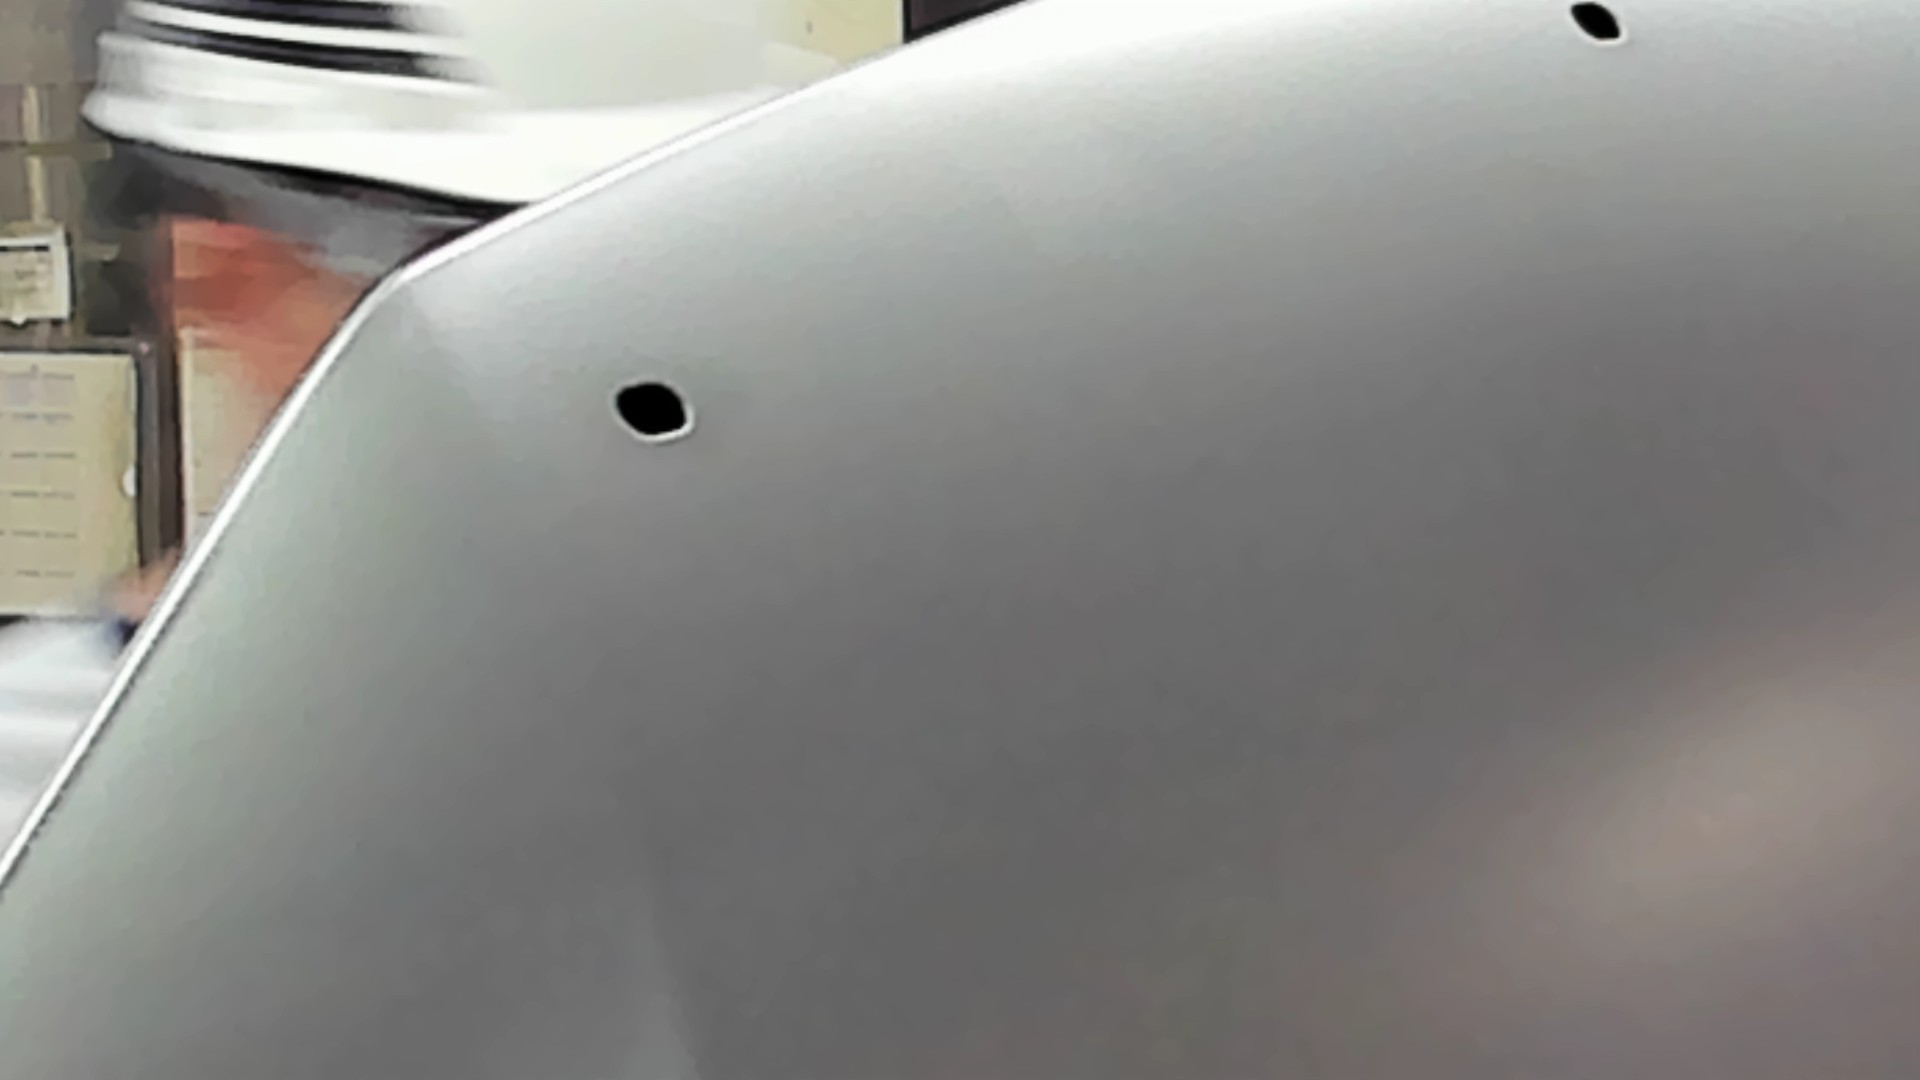amorfo: (604, 371, 705, 454), (1555, 1, 1633, 53)
capo: (864, 128, 1920, 1080)
